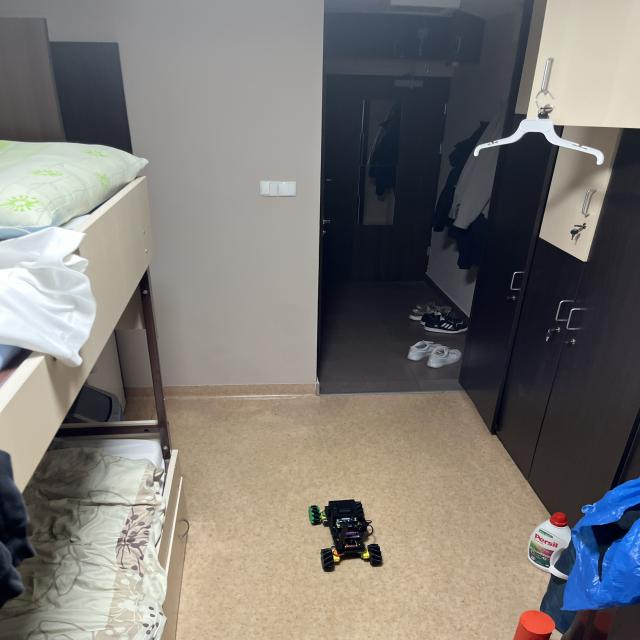robot: (309, 499, 382, 571)
